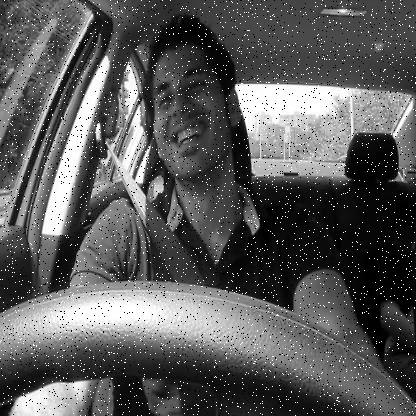seatbelt: (86, 0, 272, 416)
